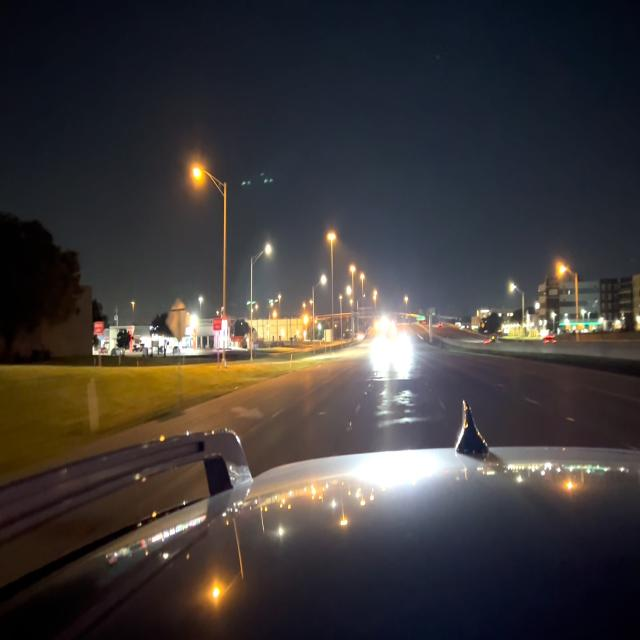back-of-sign: (165, 298, 192, 343)
